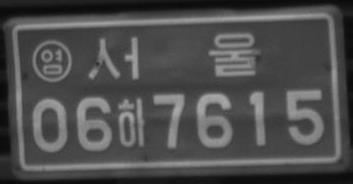0: (30, 97, 68, 153)
1: (242, 90, 279, 147)
5: (285, 87, 325, 147)
6: (74, 95, 114, 153), (195, 91, 234, 149)
7: (152, 93, 186, 149)
서울_D: (85, 32, 260, 82)
영: (32, 39, 73, 83)
하: (116, 97, 147, 147)
